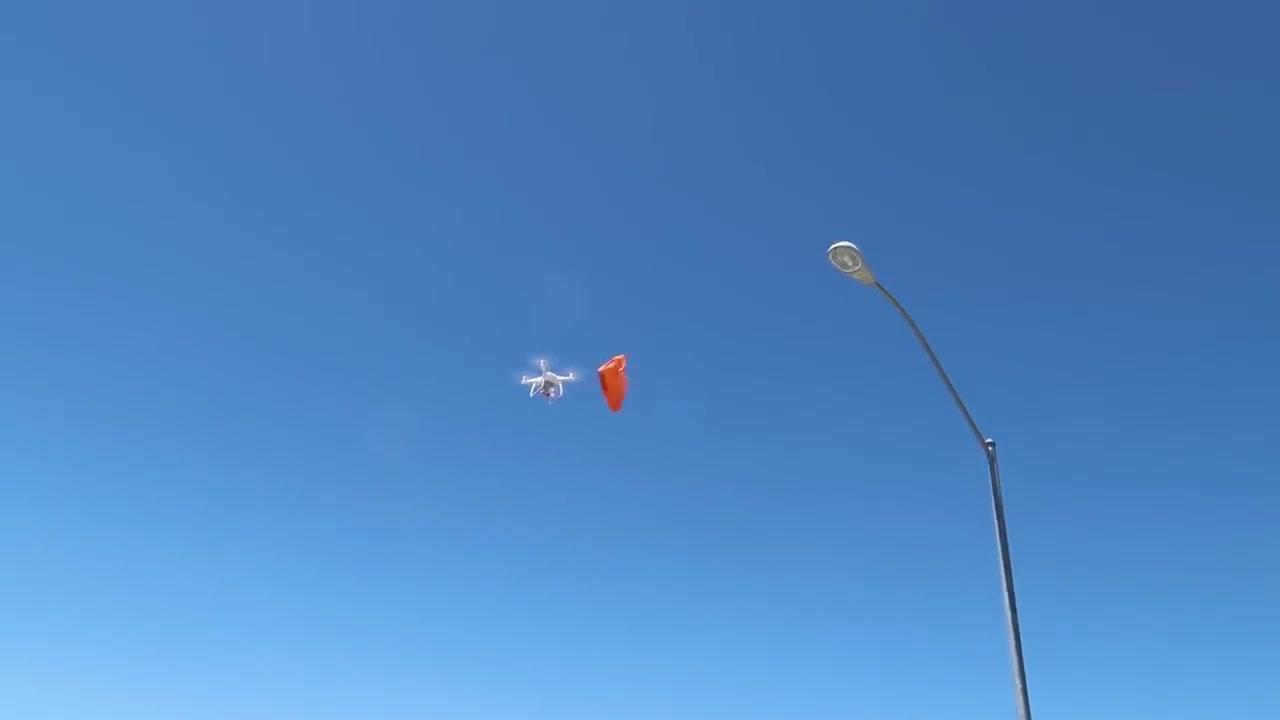UAV: (521, 360, 577, 407)
